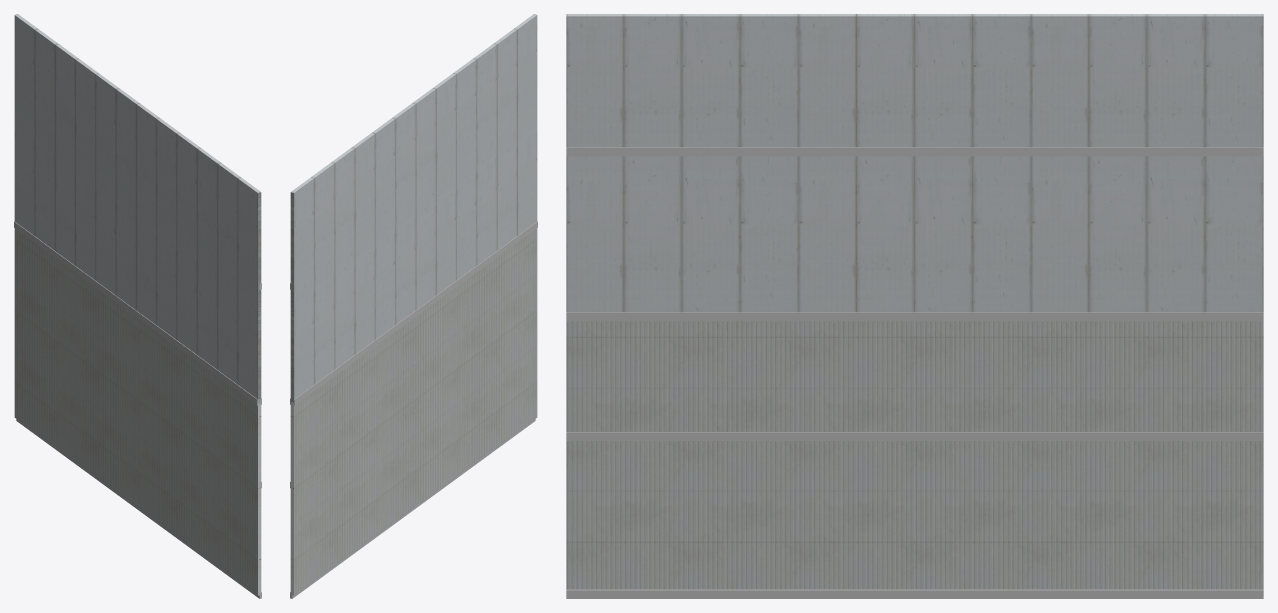
Rendered from Warehouse_Wall_02.FBX.
3 views of the same model, side by side, from view 1: azimuth 30°, elevation 25°; view 2: azimuth 150°, elevation 25°; view 3: azimuth 270°, elevation 25° (orthographic). The views are drawn at different scales.
Parts seen in each view (by area): view 1: Warehouse_Wall_2; view 2: Warehouse_Wall_2; view 3: Warehouse_Wall_2.
Boxes of the visible parts, bbox=[...] form: Warehouse_Wall_2: bbox=[14, 14, 261, 598]; Warehouse_Wall_2: bbox=[290, 14, 537, 598]; Warehouse_Wall_2: bbox=[566, 14, 1263, 598].
Bounding box in the file's own units: 5.1 × 442 × 480.
